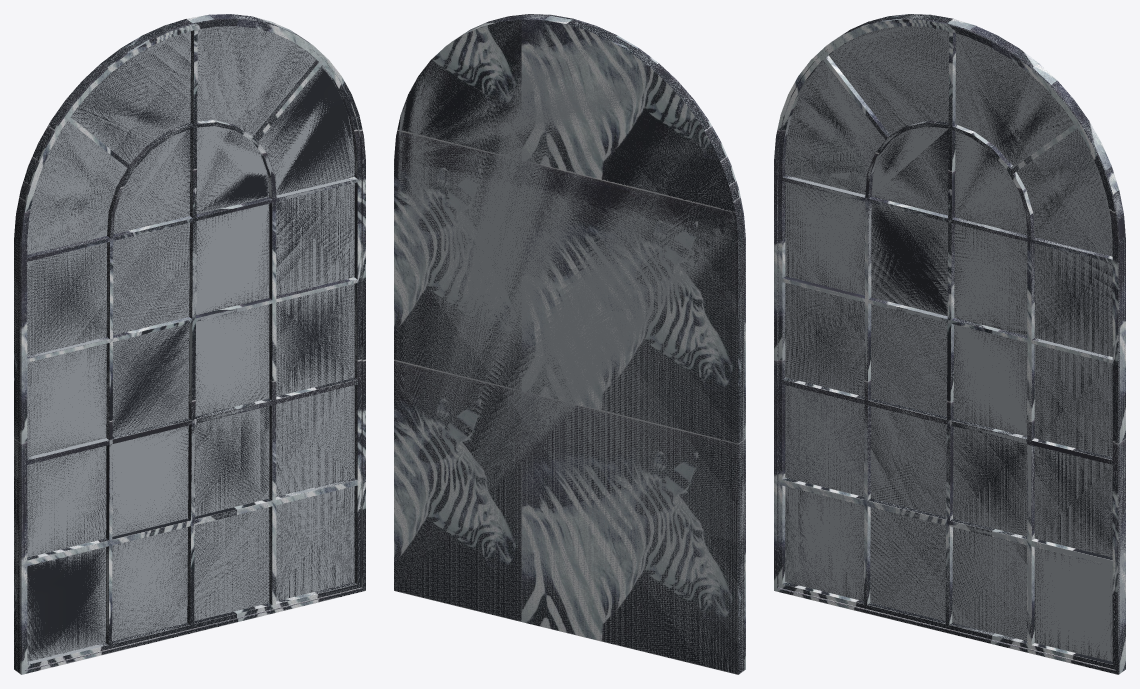
File: prop_miroir_arcade_gris.fbx
3 views of the same model, side by side, from view 1: azimuth 30°, elevation 25°; view 2: azimuth 150°, elevation 25°; view 3: azimuth 330°, elevation 25° (orthographic).
Visible parts, largest first — view 1: Model; view 2: Model; view 3: Model.
Boxes of the visible parts, <box> form: Model: <box>14,14,365,674</box>; Model: <box>394,14,745,674</box>; Model: <box>774,14,1125,674</box>.
Size of the model in its own units: 0.65 by 1.1 by 0.0241.
